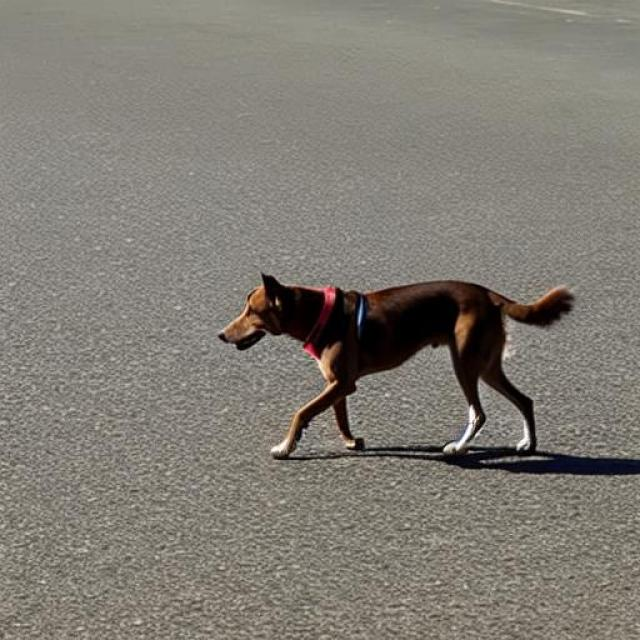Dog: (214, 269, 575, 458)
